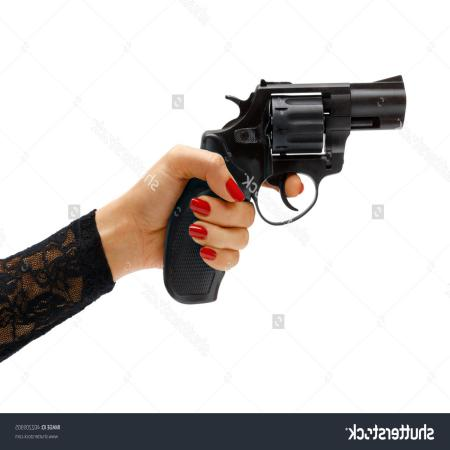Pistol: (163, 74, 408, 303)
